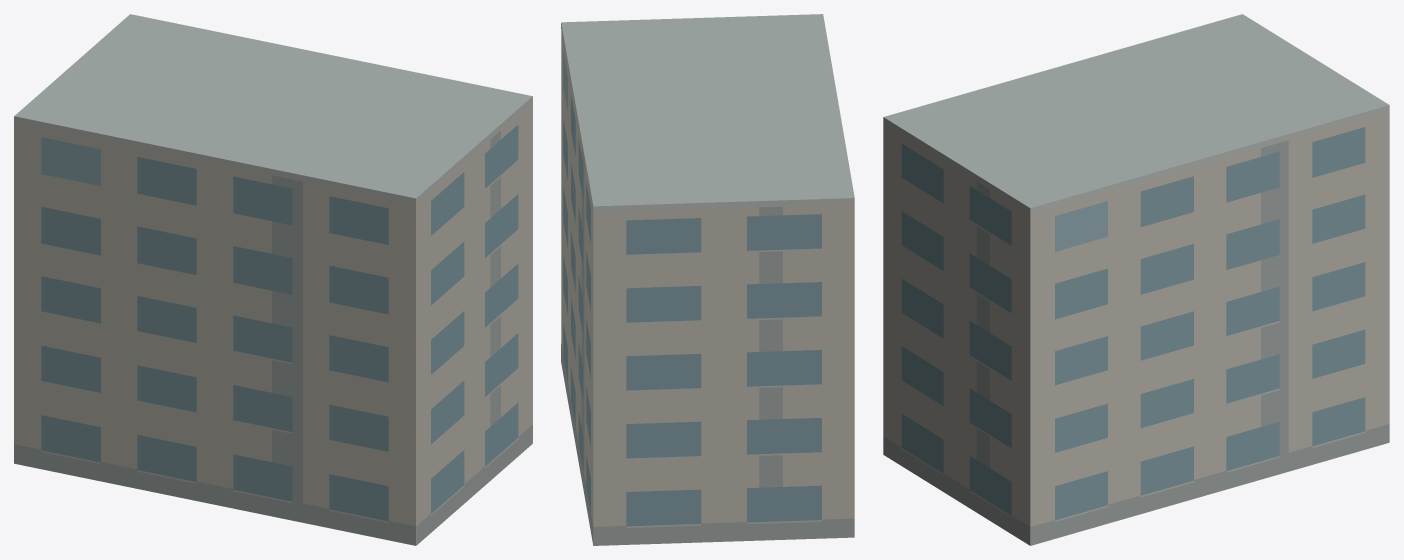
The model's file is survey-upis-32885087.glb.
The picture shows the model from 3 angles, left to right: view 1: azimuth 30°, elevation 25°; view 2: azimuth 150°, elevation 25°; view 3: azimuth 270°, elevation 25°; orthographic projection. The views are drawn at different scales.
Visible parts, largest first — view 1: survey-upis-32885087.tmp; view 2: survey-upis-32885087.tmp; view 3: survey-upis-32885087.tmp.
Part boxes in pixels (x1,y1,x2,y2): survey-upis-32885087.tmp: (14,14,532,545); survey-upis-32885087.tmp: (561,14,854,545); survey-upis-32885087.tmp: (883,14,1389,545).
Bounding box in the file's own units: 16.42 × 13.3 × 18.08.
